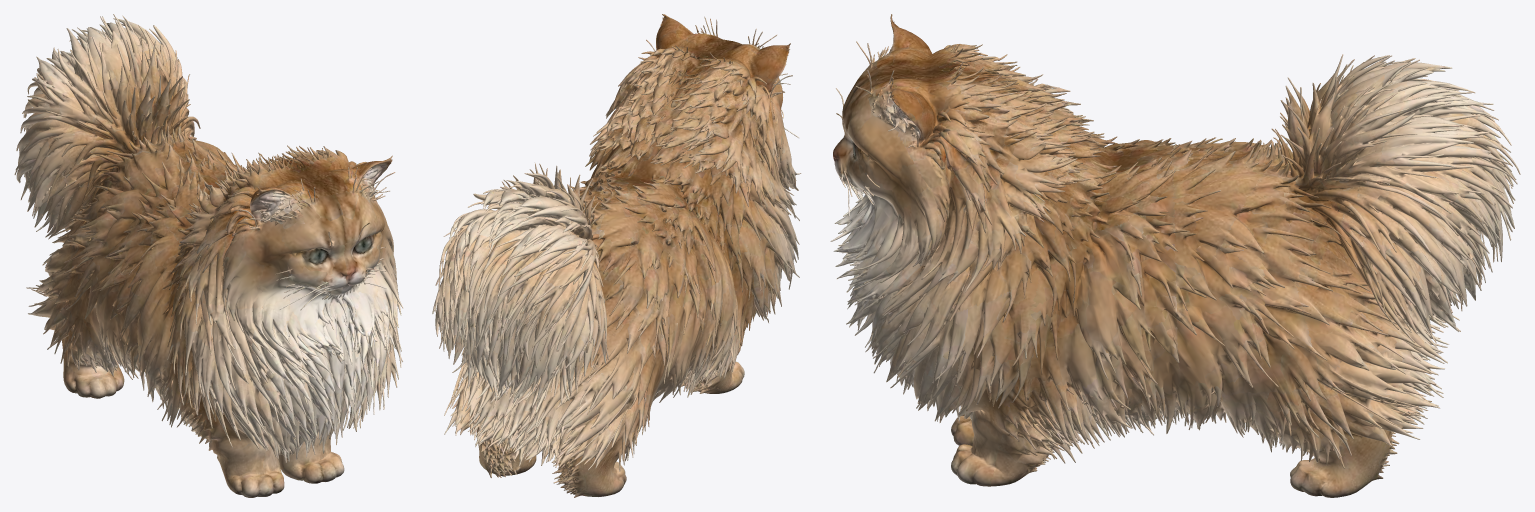
The model's file is gato_g.glb.
3 renders of one model, left to right at view 1: azimuth 30°, elevation 25°; view 2: azimuth 150°, elevation 25°; view 3: azimuth 270°, elevation 25°, orthographic. The views are drawn at different scales.
Size of the model in its own units: 0.7916 by 1.23 by 1.9.
Materials: 1 (1 with a texture image).
